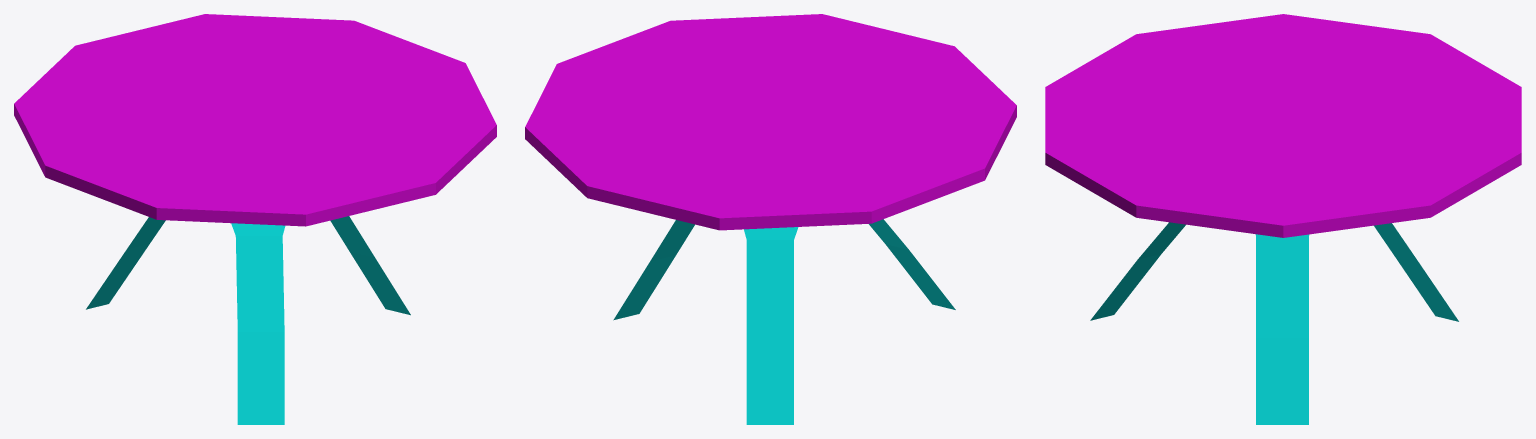
File: Table.fbx
3 views of the same model, side by side, from view 1: azimuth 30°, elevation 25°; view 2: azimuth 150°, elevation 25°; view 3: azimuth 270°, elevation 25° (orthographic). The views are drawn at different scales.
Parts seen in each view (by area): view 1: Table; view 2: Table; view 3: Table.
Boxes of the visible parts, left/top/right/bottom form: Table: left=14, top=14, right=496, bottom=424; Table: left=525, top=14, right=1016, bottom=424; Table: left=1045, top=14, right=1521, bottom=424.
Size of the model in its own units: 1.46 by 0.751 by 1.39.
